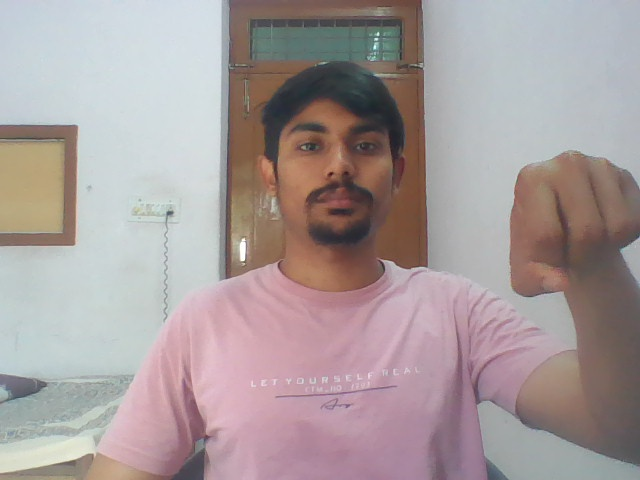Yes: (495, 145, 640, 298)
